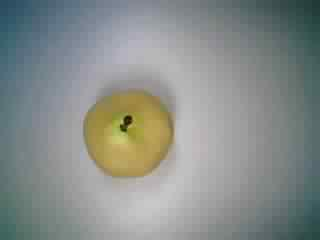pear: (70, 76, 181, 190)
